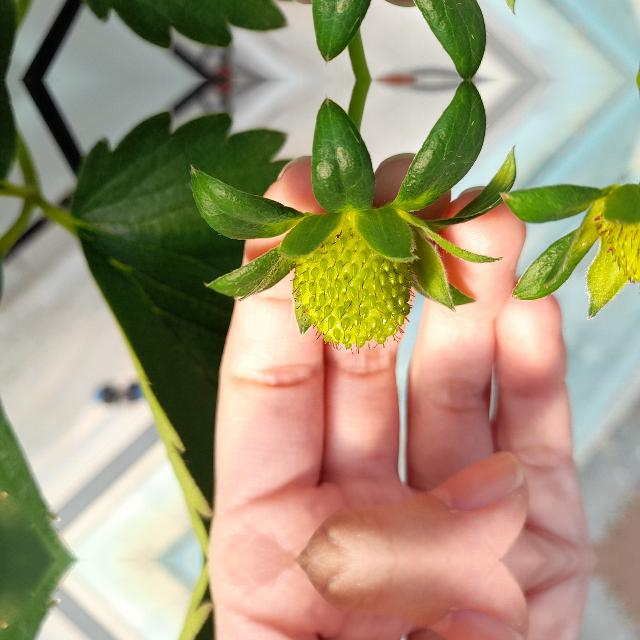Health_25: (289, 220, 417, 354)
